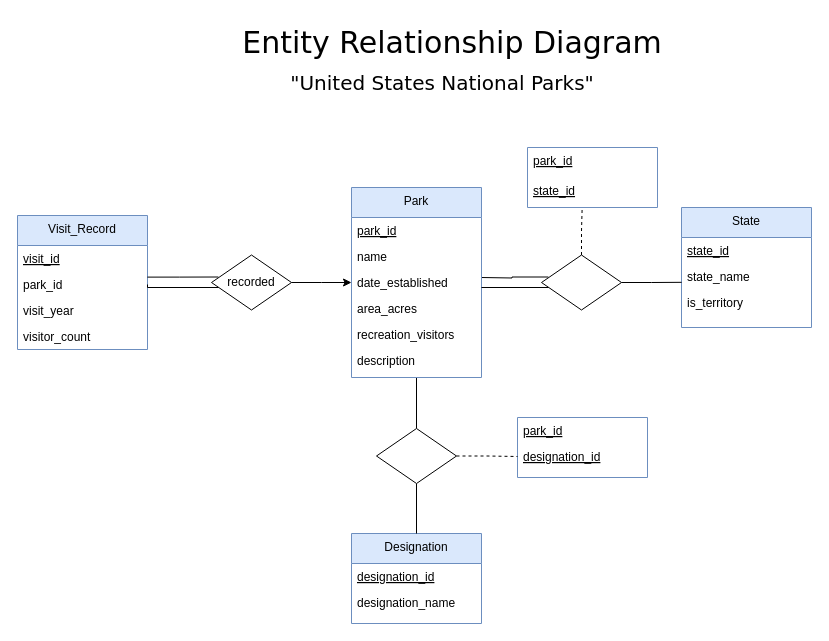
The diagram is 829 pixels wide and 641 high, and some of its shapes have lost their labels. The centre of each missing label's shape, as x and y in pixels:
has: the point at 416,456
located_in: the point at 581,282
